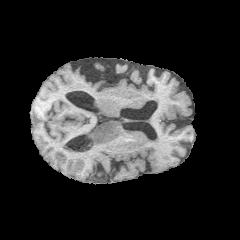glioma: (62, 121, 117, 154)
